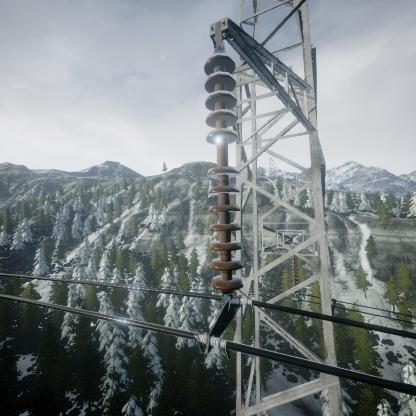insulator: (200, 51, 243, 296)
